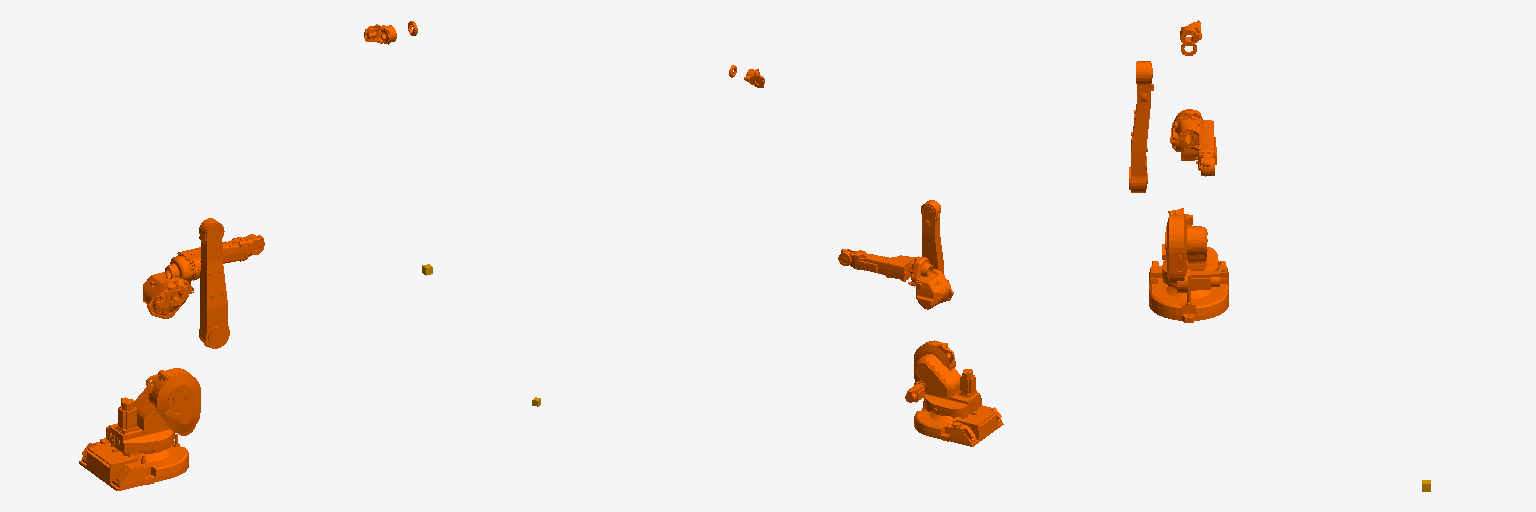
The robot description file, URDF, robot "irb1660_6_155":
<?xml version="1.0" ?>
<robot name="irb1660_6_155" xmlns:xacro="http://ros.org/wiki/xacro">
  <!-- robot link list -->
  <link name="base_link">
    <visual>
      <origin rpy="0 0 0" xyz="0 0 0" />
      <geometry>
        <mesh filename="package://abb_irb1660_support/meshes/base_link.stl" />
      </geometry>
      <material name="abb_orange">
        <color rgba="1 0.43 0 1" />
      </material>
    </visual>
    <collision>
      <geometry>
        <mesh filename="package://abb_irb1660_support/meshes/base_link.stl" />
      </geometry>
      <material name="yellow">
        <color rgba="0 1 1 1" />
      </material>
    </collision>
  </link>
  <link name="link_1">
    <visual>
      <origin rpy="0 0 0" xyz="0 0 0" />
      <geometry>
        <mesh filename="package://abb_irb1660_support/meshes/link_1.stl" />
      </geometry>
      <material name="abb_orange" />
    </visual>
    <collision>
      <origin rpy="0 0 0" xyz="0 0 0" />
      <geometry>
        <mesh filename="package://abb_irb1660_support/meshes/link_1.stl" />
      </geometry>
      <material name="yellow" />
    </collision>
  </link>
  <link name="link_2">
    <visual>
      <origin rpy="0 0 0" xyz="0 0 0" />
      <geometry>
        <mesh filename="package://abb_irb1660_support/meshes/link_2.stl" />
      </geometry>
      <material name="abb_orange" />
    </visual>
    <collision>
      <origin rpy="0 0 0" xyz="0 0 0" />
      <geometry>
        <mesh filename="package://abb_irb1660_support/meshes/link_2.stl" />
      </geometry>
      <material name="yellow" />
    </collision>
  </link>
  <link name="link_3">
    <visual>
      <origin rpy="0 0 0" xyz="0 0 0" />
      <geometry>
        <mesh filename="package://abb_irb1660_support/meshes/link_3.stl" />
      </geometry>
      <material name="abb_orange" />
    </visual>
    <collision>
      <origin rpy="0 0 0" xyz="0 0 0" />
      <geometry>
        <mesh filename="package://abb_irb1660_support/meshes/link_3.stl" />
      </geometry>
      <material name="yellow" />
    </collision>
  </link>
  <link name="link_4">
    <visual>
      <origin rpy="0 0 0" xyz="0 0 0" />
      <geometry>
        <mesh filename="package://abb_irb1660_support/meshes/link_4.stl" />
      </geometry>
      <material name="abb_orange" />
    </visual>
    <collision>
      <origin rpy="0 0 0" xyz="0 0 0" />
      <geometry>
        <mesh filename="package://abb_irb1660_support/meshes/link_4.stl" />
      </geometry>
      <material name="yellow" />
    </collision>
  </link>
  <link name="link_5">
    <visual>
      <origin rpy="0 0 0" xyz="0 0 0" />
      <geometry>
        <mesh filename="package://abb_irb1660_support/meshes/link_5.stl" />
      </geometry>
      <material name="abb_orange" />
    </visual>
    <collision>
      <origin rpy="0 0 0" xyz="0 0 0" />
      <geometry>
        <mesh filename="package://abb_irb1660_support/meshes/link_5.stl" />
      </geometry>
      <material name="yellow" />
    </collision>
  </link>
  <link name="link_6">
    <visual>
      <origin rpy="0 0 0" xyz="0 0 0" />
      <geometry>
        <mesh filename="package://abb_irb1660_support/meshes/link_6.stl" />
      </geometry>
      <material name="abb_orange" />
    </visual>
    <collision>
      <origin rpy="0 0 0" xyz="0 0 0" />
      <geometry>
        <mesh filename="package://abb_irb1660_support/meshes/link_6.stl" />
      </geometry>
      <material name="yellow" />
    </collision>
  </link>
  <link name="tool0" />
  <!-- camera link list -->
  <link name="camera_link">
    <visual>
      <origin rpy="0 0 0" xyz="0 0 0" />
      <geometry>
        <box size="0.05 0.05 0.05" />
      </geometry>
    </visual>
    <material name="Cyan">
      <color rgba="0 1.0 1.0 1.0" />
    </material>
  </link>
  <link name="camera_optical_frame">
    <visual>
      <origin rpy="0 0 0" xyz="0.0 0.0 0" />
      <geometry>
        <sphere radius="0.0005" />
      </geometry>
    </visual>
  </link>
  <!-- end of link list -->
  <!-- robot joint list -->
  <joint name="joint_1" type="revolute">
    <origin rpy="0 0 0" xyz="0 0 0.124" />
    <parent link="base_link" />
    <child link="link_1" />
    <axis xyz="0 0 1" />
    <limit effort="0" lower="-3.14159" upper="3.14159" velocity="3.14159" />
    <calibration rising="-3.71908" />
  </joint>
  <joint name="joint_2" type="revolute">
    <origin rpy="0 0 0" xyz="0.15 -0.107 0.3625" />
    <parent link="link_1" />
    <child link="link_2" />
    <axis xyz="0 1 0" />
    <limit effort="0" lower="-1.5708" upper="2.61799" velocity="3.14159" />
    <calibration rising="-0.864521" />
  </joint>
  <joint name="joint_3" type="revolute">
    <origin rpy="0 0 0" xyz="0 0 0.7" />
    <parent link="link_2" />
    <child link="link_3" />
    <axis xyz="0 1 0" />
    <limit effort="0" lower="-4.15388" upper="1.37881" velocity="3.14159" />
    <calibration rising="1.64484" />
  </joint>
  <joint name="joint_4" type="revolute">
    <origin rpy="0 0 0" xyz="0.128 0.107 0.108" />
    <parent link="link_3" />
    <child link="link_4" />
    <axis xyz="1 0 0" />
    <limit effort="0" lower="-3.05433" upper="3.05433" velocity="5.58505" />
    <calibration rising="-1.77227" />
  </joint>
  <joint name="joint_5" type="revolute">
    <origin rpy="0 0 0" xyz="0.55 0 0" />
    <parent link="link_4" />
    <child link="link_5" />
    <axis xyz="0 1 0" />
    <limit effort="0" lower="-2.0944" upper="2.0944" velocity="6.28319" />
    <calibration rising="-0.888708" />
  </joint>
  <joint name="joint_6" type="revolute">
    <origin rpy="0.0 0 0" xyz="0.135 0 0" />
    <parent link="link_5" />
    <child link="link_6" />
    <axis xyz="1 0 0" />
    <limit effort="0" lower="-6.98132" upper="6.98132" velocity="8.72665" />
    <calibration rising="-0.232954" />
  </joint>
  <joint name="joint_6-tool0" type="fixed">
    <parent link="link_6" />
    <child link="tool0" />
    <origin rpy="0 0 0" xyz="0 0 0" />
  </joint>
  <!-- camera joint list -->
  <joint name="camera_joint" type="fixed">
    <origin rpy="0 -3.14159 0" xyz="2.85 1.43 0.12" />
    <parent link="base_link" />
    <child link="camera_link" />
  </joint>
  <joint name="camera_optical_joint" type="fixed">
    <origin rpy="0 0 0" xyz="0 0 0" />
    <parent link="camera_link" />
    <child link="camera_optical_frame" />
  </joint>
  <!-- end of joint list -->
</robot>

--- What the picture shows (computed from the rendered views, not written in the file) ---
Views: 3 orthographic renders of the robot side by side, from view 1: azimuth 30°, elevation 25°; view 2: azimuth 150°, elevation 25°; view 3: azimuth 270°, elevation 25°.
Model irb1660_6_155 with 10 links and 9 joints (6 revolute, 3 fixed), rooted at base_link, posed every joint at zero.
Links seen in each view (by area): view 1: link_1, base_link, link_2, link_3, link_4, link_5; view 2: link_1, base_link, link_3, link_4, link_2; view 3: link_1, base_link, link_2, link_4, link_3.
Boxes of the visible links, x1,y1,x2,y2 form: link_1: [106, 368, 200, 456]; base_link: [79, 434, 188, 490]; link_2: [199, 218, 229, 348]; link_3: [143, 256, 195, 318]; link_4: [177, 234, 264, 280]; link_5: [364, 24, 396, 44]; link_1: [905, 340, 981, 418]; base_link: [914, 401, 1003, 446]; link_3: [908, 256, 953, 309]; link_4: [838, 249, 914, 281]; link_2: [921, 200, 944, 275]; link_1: [1162, 208, 1220, 292]; base_link: [1149, 261, 1228, 322]; link_2: [1129, 61, 1153, 192]; link_4: [1175, 118, 1216, 176]; link_3: [1170, 109, 1215, 160].
Bounding box of the posed robot: 3.26 × 1.81 × 2.65 m (x, y, z).
Meshes: 7 distinct files referenced, 7 mesh visuals loaded (4 binary STL, 3 ASCII STL).